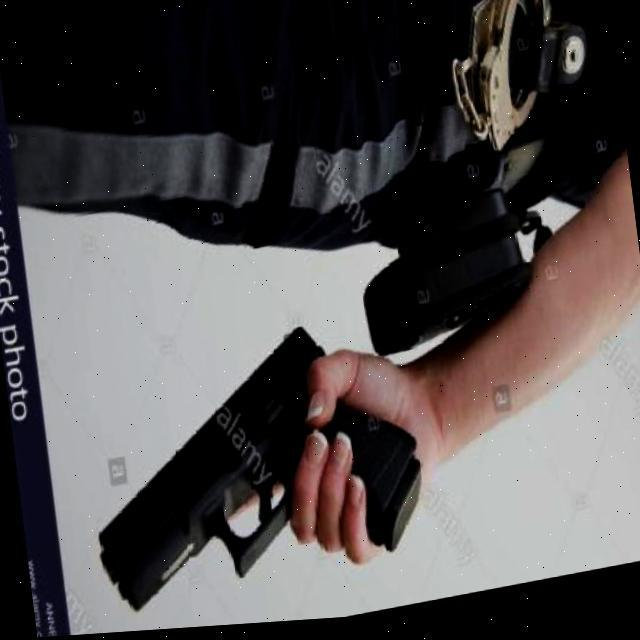gun: (74, 308, 434, 630)
